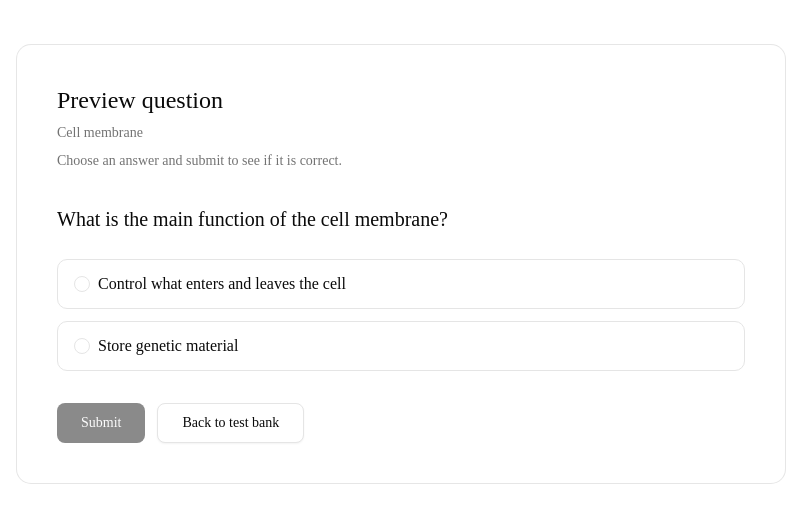
Test: preview question page › shows the incorrect message after a wrong answer
Click the radio button named "store genetic material" next to "Store genetic material" at [82, 346], box [74,338,90,354]
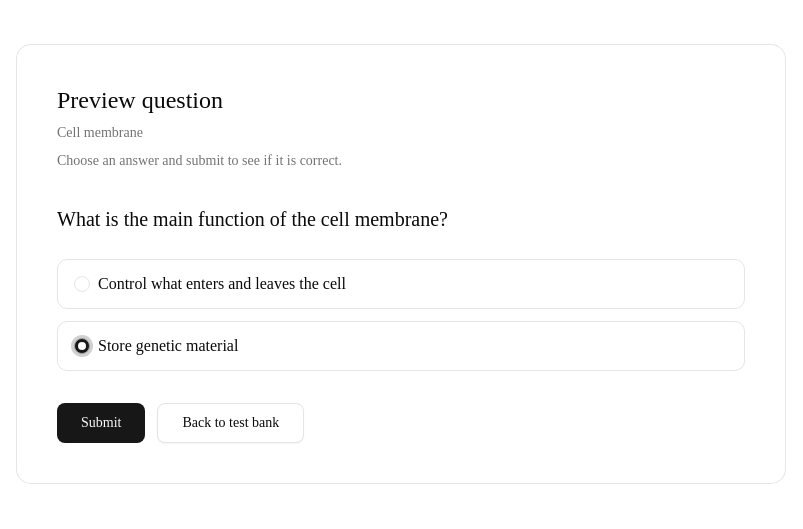
Click the button "Submit" at [101, 423], box [57,403,146,443]
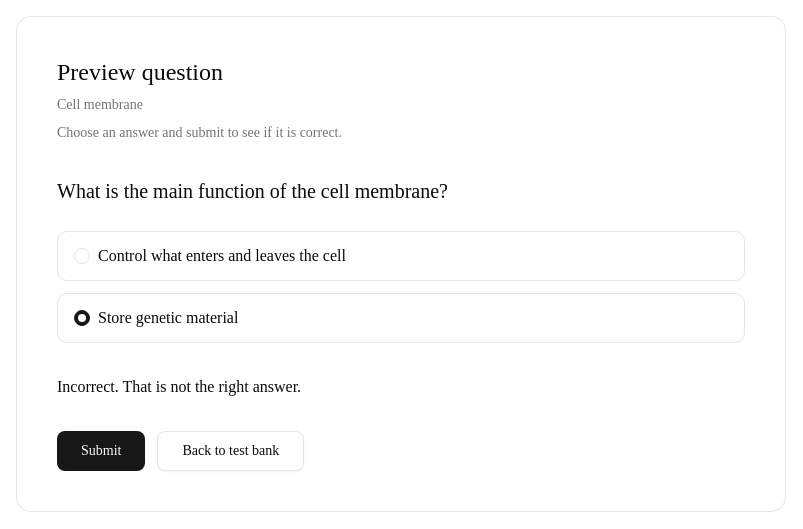
Result: the text "Incorrect. That is not the right answer." is shown at [57,378,301,395]
